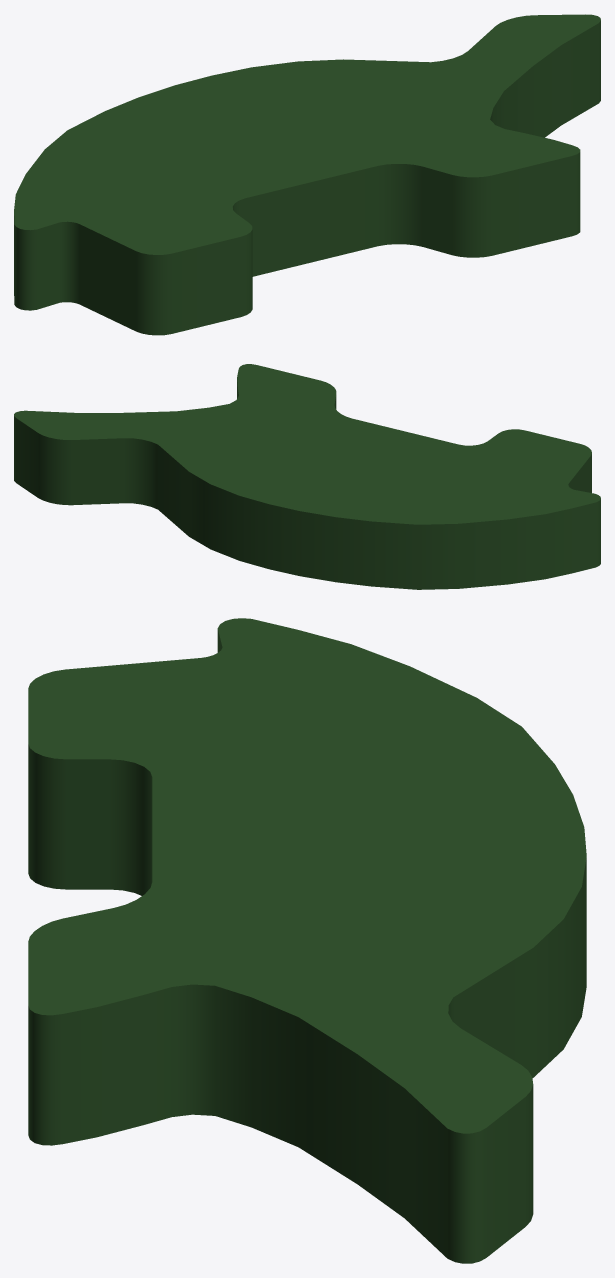
Rendered from Animal2.fbx.
3 views of the same model, one above another, from view 1: azimuth 30°, elevation 25°; view 2: azimuth 150°, elevation 25°; view 3: azimuth 270°, elevation 25° (orthographic). The views are drawn at different scales.
Parts seen in each view (by area): view 1: animal4; view 2: animal4; view 3: animal4.
Part boxes in pixels (box(x1,y1,x2,y2)): animal4: box(14, 14, 600, 335); animal4: box(14, 364, 600, 589); animal4: box(28, 618, 586, 1263).
Size of the model in its own units: 79.82 by 9.4 by 36.55.
